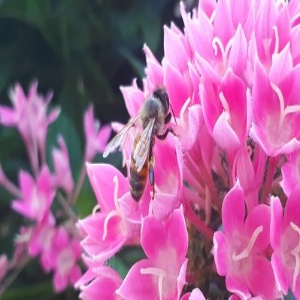bee: (100, 83, 178, 202)
